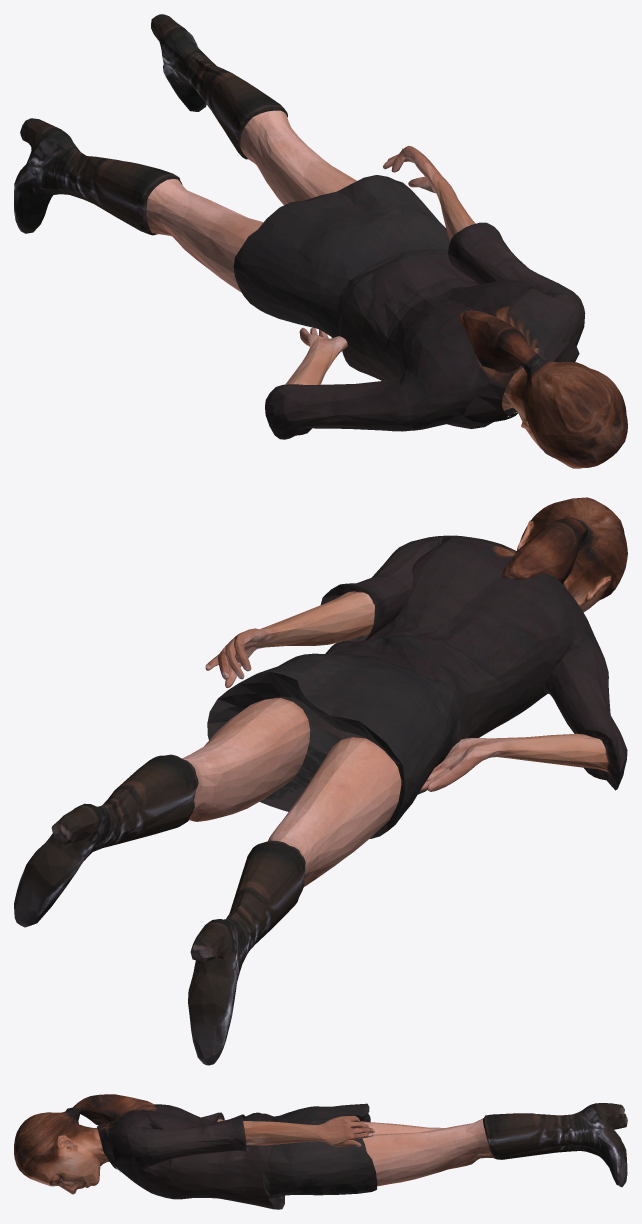
The model's file is woman_black_miniskirt.dae.
3 views of the same model, one above another, from view 1: azimuth 30°, elevation 25°; view 2: azimuth 150°, elevation 25°; view 3: azimuth 270°, elevation 25° (orthographic). The views are drawn at different scales.
Visible parts, largest first — view 1: node; view 2: node; view 3: node.
Boxes of the visible parts, x1,y1,x2,y2 form: node: (14, 14, 627, 468); node: (14, 497, 627, 1065); node: (14, 1094, 627, 1209).
Size of the model in its own units: 22.27 by 15.6 by 68.33.
1 material, 1 textured.
